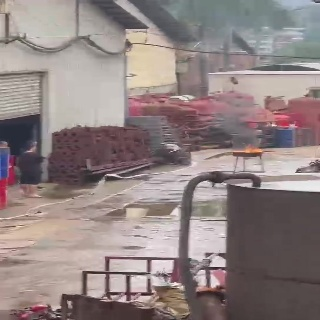fire: (232, 144, 264, 153)
